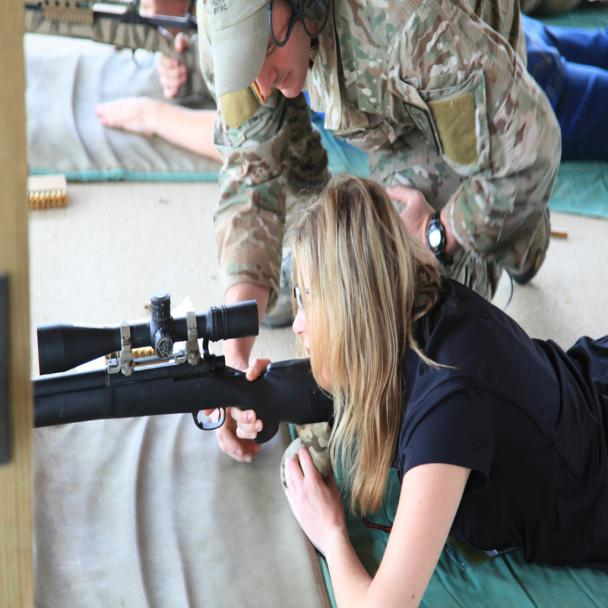Gun: (31, 296, 330, 447)
Hand: (280, 442, 358, 572), (211, 357, 277, 464)
